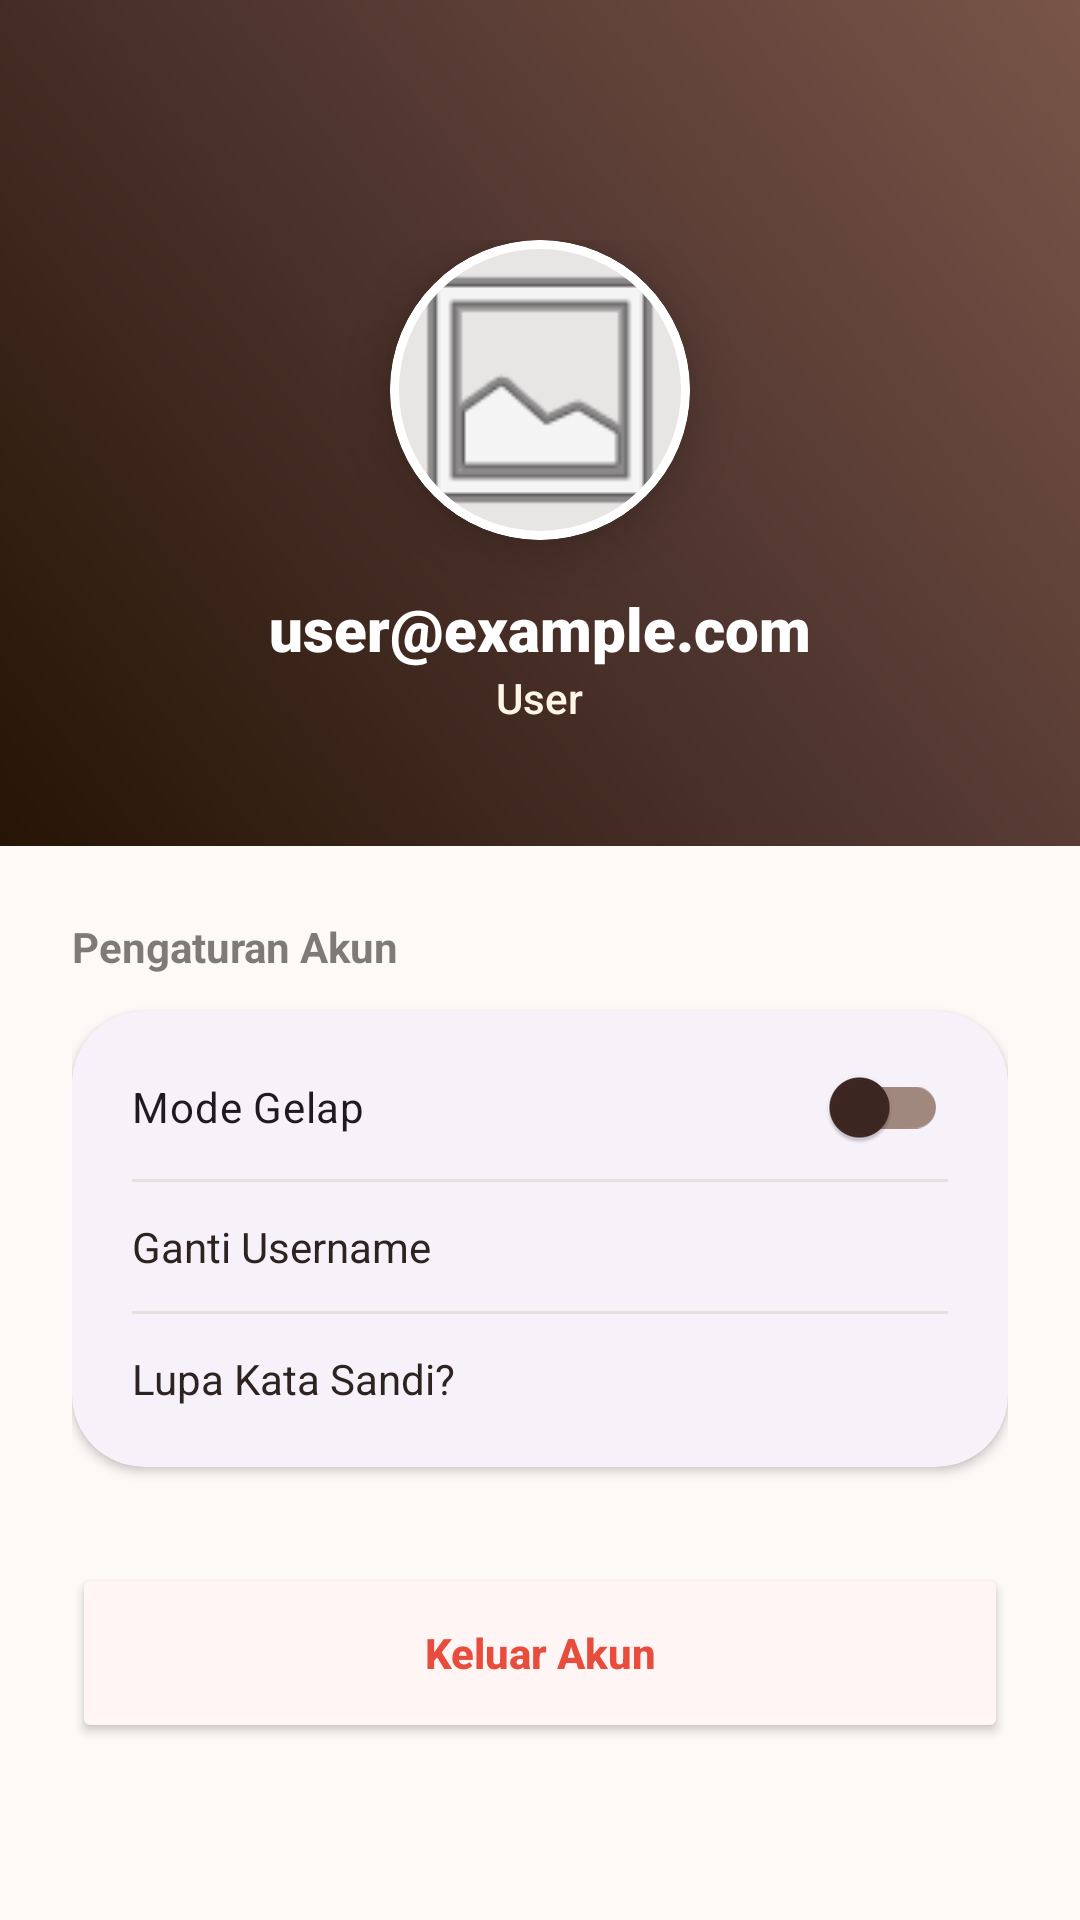

Where to tap for icons on this 1080×1920 app screen, as point (x, y):
Profile Picture: point (540, 390)
